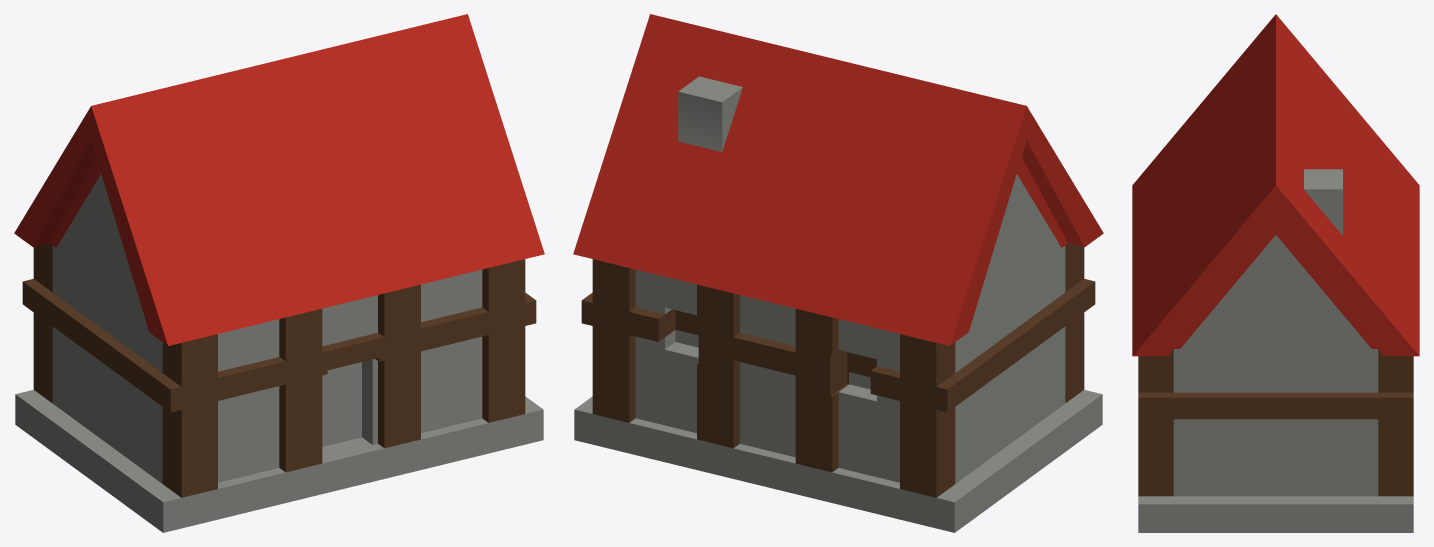
File: gehoeft_rot.glb
3 views of the same model, side by side, from view 1: azimuth 30°, elevation 25°; view 2: azimuth 150°, elevation 25°; view 3: azimuth 270°, elevation 25° (orthographic). The views are drawn at different scales.
Visible parts, largest first — view 1: gehoeft_rot; view 2: gehoeft_rot; view 3: gehoeft_rot.
Part boxes in pixels (x1,y1,x2,y2): gehoeft_rot: (14, 14, 544, 532); gehoeft_rot: (573, 14, 1103, 532); gehoeft_rot: (1132, 14, 1419, 532).
Bounding box in the file's own units: 10.4 × 9.74 × 7.3.
